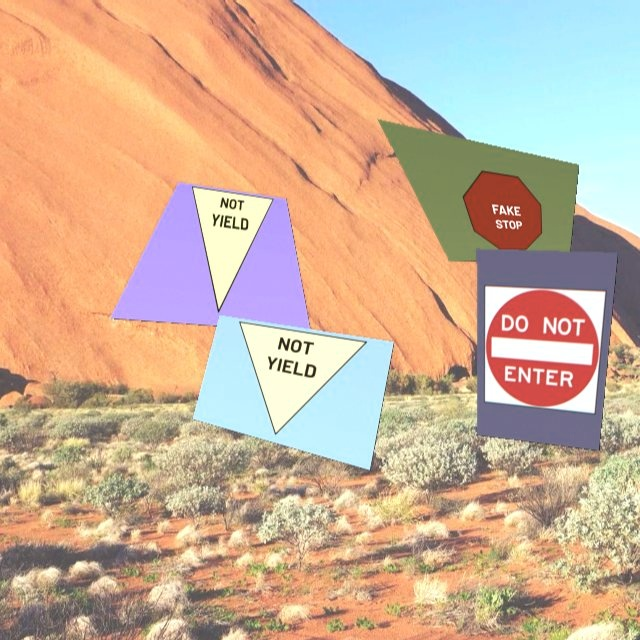DO_NOT_ENTER: (484, 285, 607, 414)
FAKE_STOP: (447, 164, 547, 250)
NOT_YIELD: (213, 314, 373, 454), (144, 184, 296, 318)
